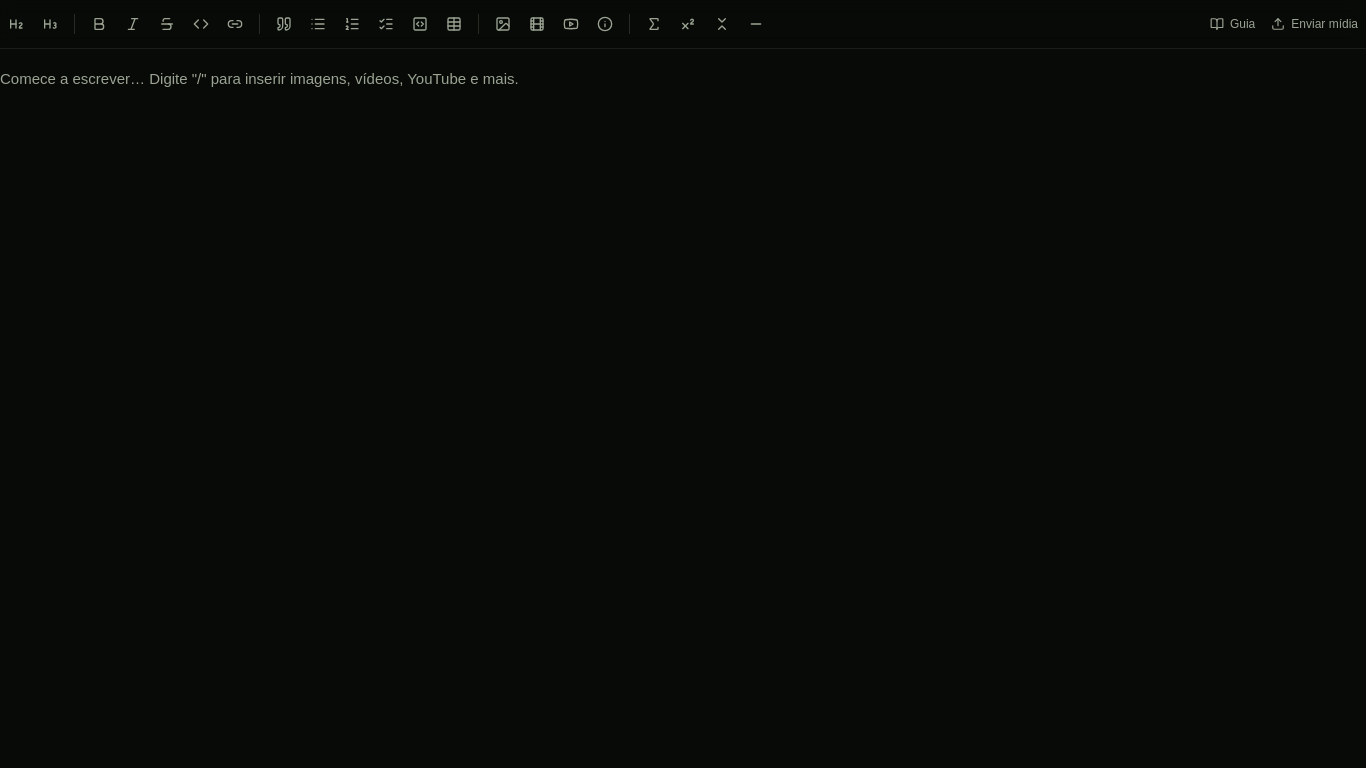
barra de formatação e atalhos › o botão "Guia" abre o guia de Markdown
Click the button "Guia": (1233, 24) top-left (1202, 8), bottom-right (1263, 40)
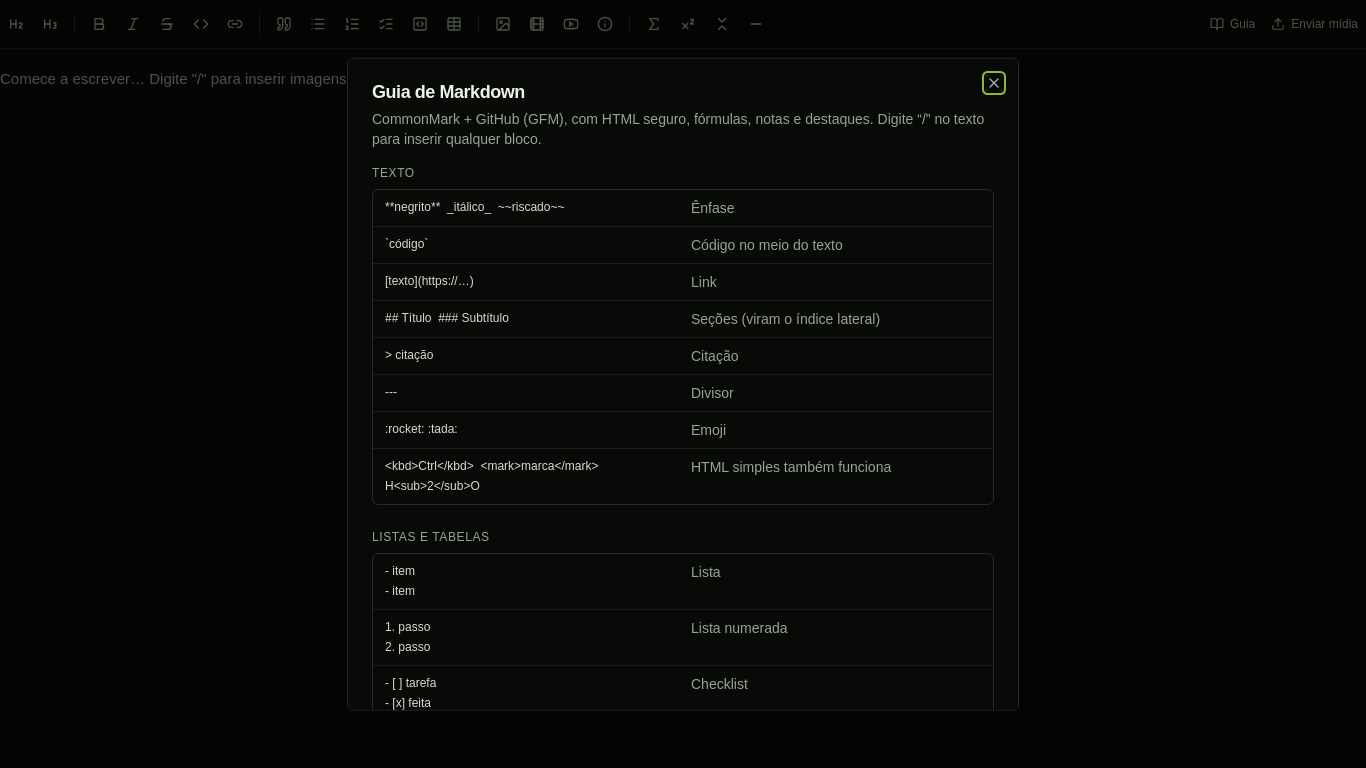
Check: the heading "Guia de Markdown" is shown, box top-left (372, 82), bottom-right (525, 102)
